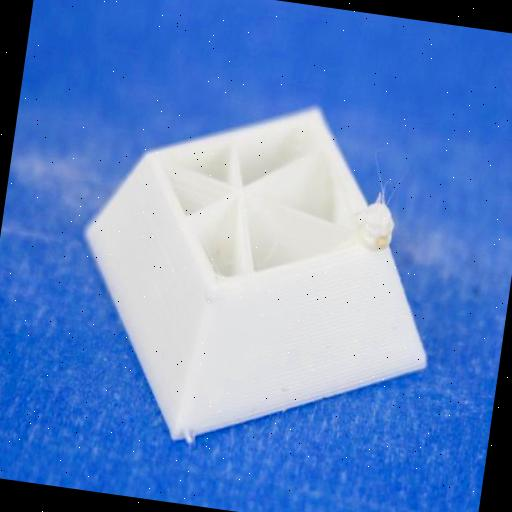blobs: (350, 191, 400, 253)
